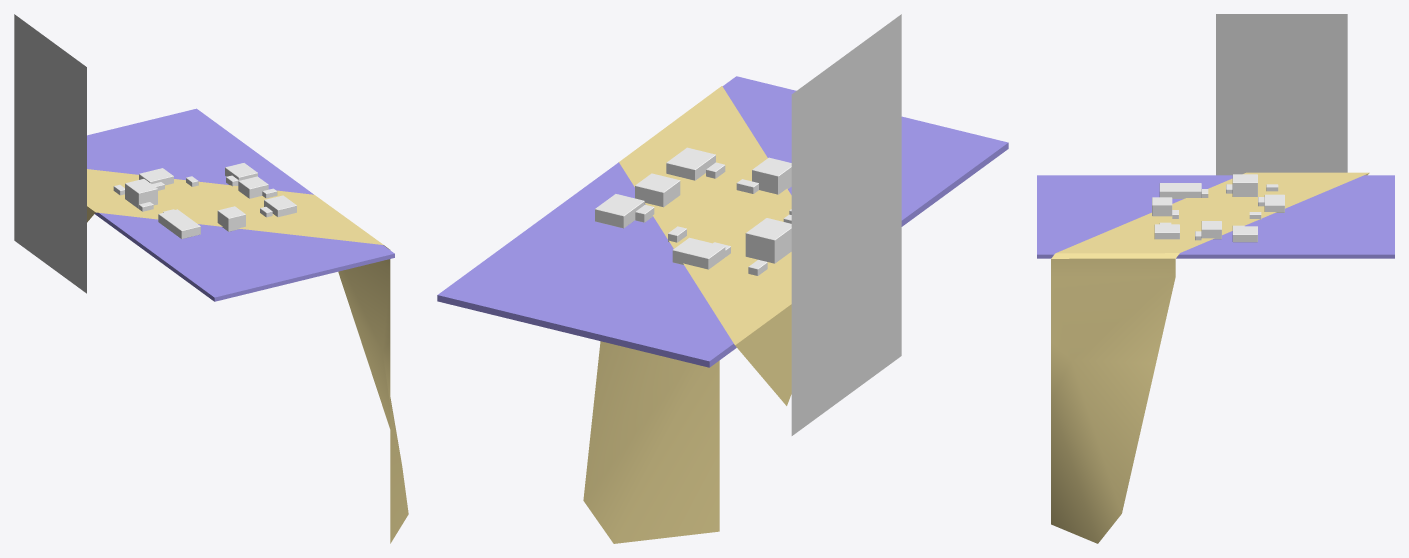
The model's file is pageLayout-02.glb.
3 views of the same model, side by side, from view 1: azimuth 30°, elevation 25°; view 2: azimuth 150°, elevation 25°; view 3: azimuth 270°, elevation 25° (orthographic). The views are drawn at different scales.
Visible parts, largest first — view 1: deskPlane, pictureFrame, papperPlane, neighboar_002, neighboar_005, neighboar_003, neighboar_010, neighboar_012; view 2: papperPlane, deskPlane, pictureFrame, neighboar_005, neighboar_001, neighboar_015, neighboar_012, neighboar_003, neighboar_010; view 3: papperPlane, pictureFrame, deskPlane, neighboar_002, neighboar_005, neighboar_015.
Part boxes in pixels (<box>): deskPlane: <box>87,108,394,301</box>; pictureFrame: <box>14,14,86,293</box>; papperPlane: <box>87,169,408,543</box>; neighboar_002: <box>158,209,200,238</box>; neighboar_005: <box>125,179,157,208</box>; neighboar_003: <box>217,206,245,231</box>; neighboar_010: <box>264,195,296,217</box>; neighboar_012: <box>238,176,268,198</box>; papperPlane: <box>583,86,791,543</box>; deskPlane: <box>437,76,1008,367</box>; pictureFrame: <box>791,14,901,435</box>; neighboar_005: <box>745,218,791,263</box>; neighboar_001: <box>672,237,725,269</box>; neighboar_015: <box>595,194,644,228</box>; neighboar_012: <box>635,173,680,207</box>; neighboar_003: <box>752,157,791,194</box>; neighboar_010: <box>666,147,715,180</box>; papperPlane: <box>1051,172,1369,543</box>; pictureFrame: <box>1216,14,1347,175</box>; deskPlane: <box>1037,175,1394,258</box>; neighboar_002: <box>1159,183,1201,198</box>; neighboar_005: <box>1232,174,1257,196</box>; neighboar_015: <box>1232,226,1257,242</box>.
Bounding box in the file's own units: 163 × 273 × 212.
